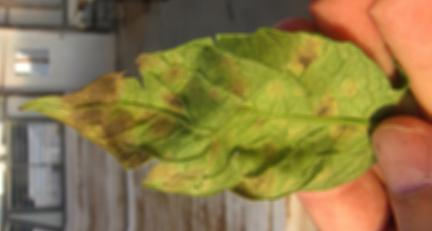Tomato mold leaf: (7, 0, 395, 213)
